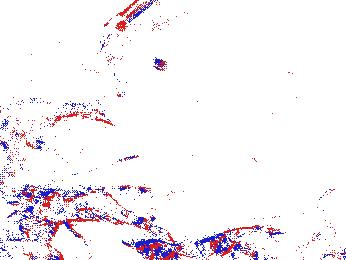X-ray fish: (194, 225, 317, 260)
glassfish: (82, 1, 196, 85)
siberian prawn: (1, 184, 142, 227), (1, 98, 103, 146)
